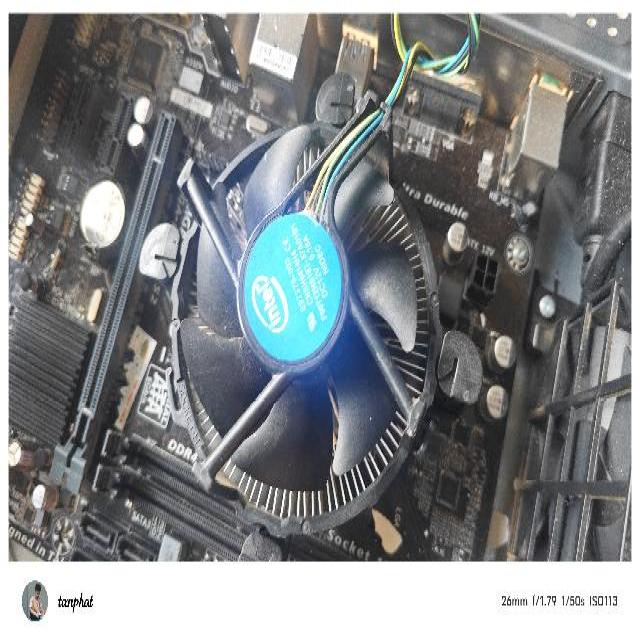CPU_Fan: (139, 65, 484, 562)
Mainboard: (10, 15, 558, 562)
